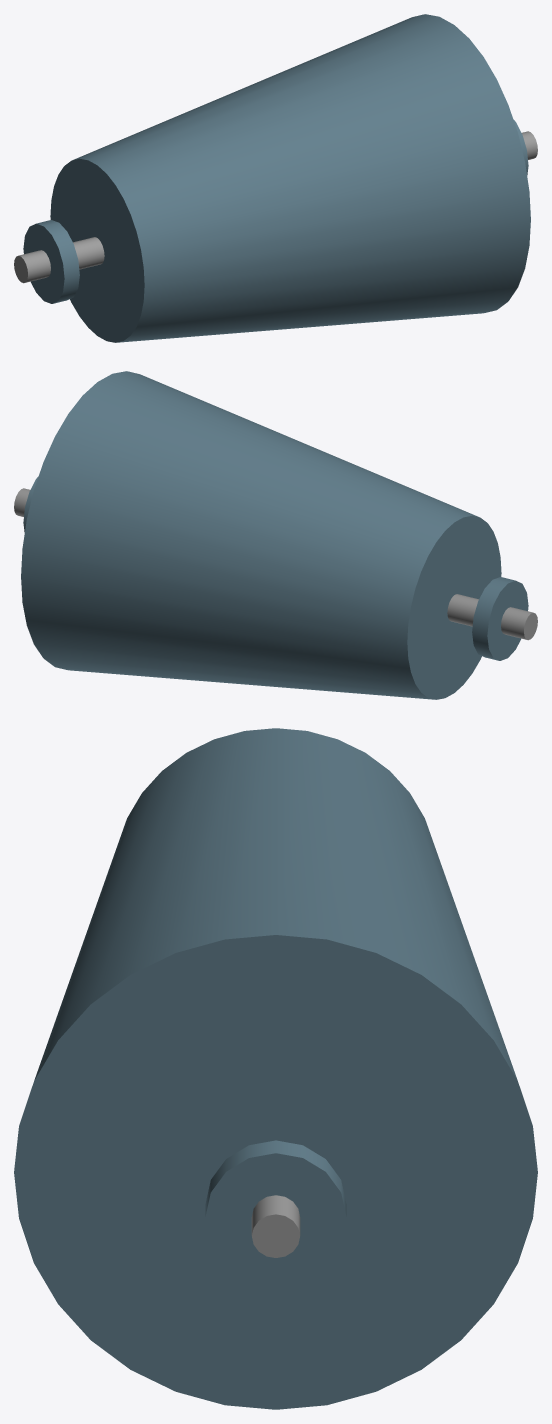
File: turbine.glb
3 views of the same model, one above another, from view 1: azimuth 30°, elevation 25°; view 2: azimuth 150°, elevation 25°; view 3: azimuth 270°, elevation 25° (orthographic). The views are drawn at different scales.
Bounding box in the file's own units: 5 × 2.6 × 2.6.
